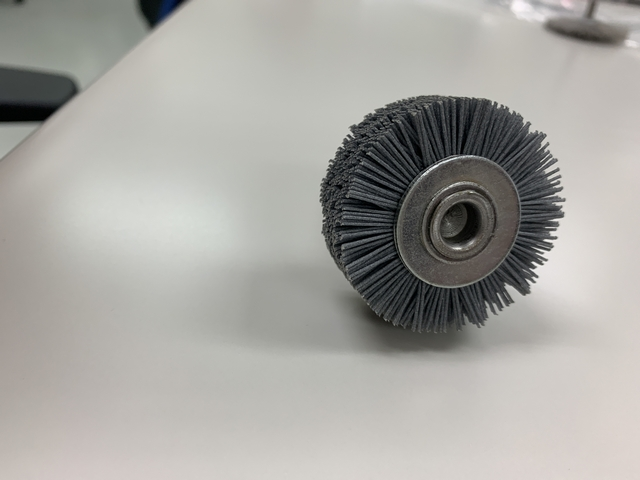Wheel Brush: (315, 89, 572, 338), (334, 106, 553, 330)
